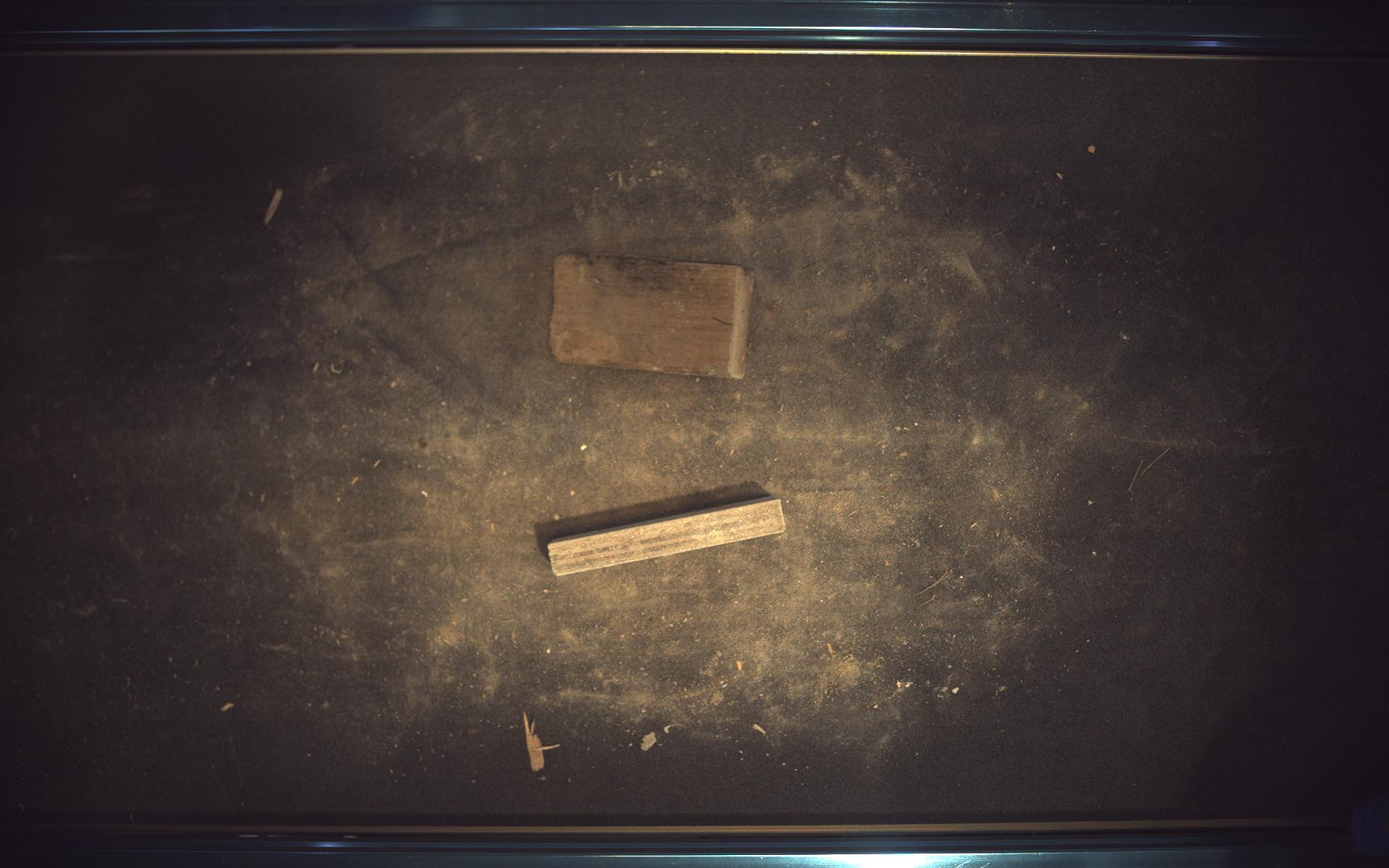wood: (551, 254, 754, 378), (548, 496, 786, 576)
